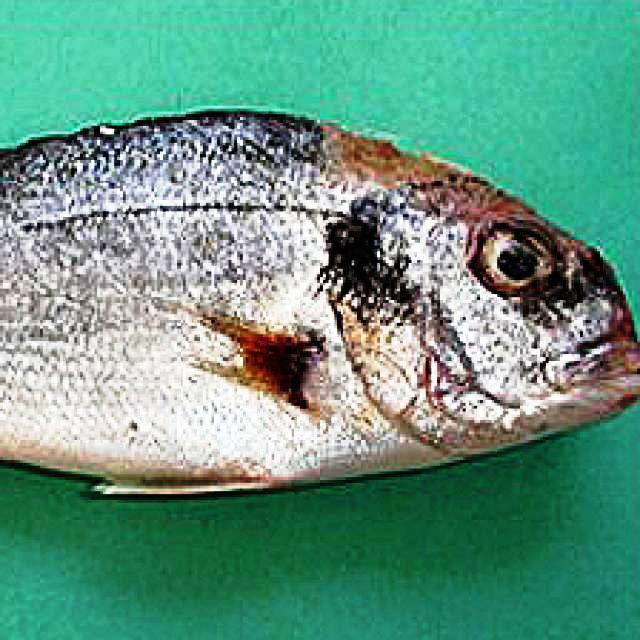Epizootic Ulcerative Syndrome -EUS-: (0, 109, 639, 494), (0, 109, 639, 494)
